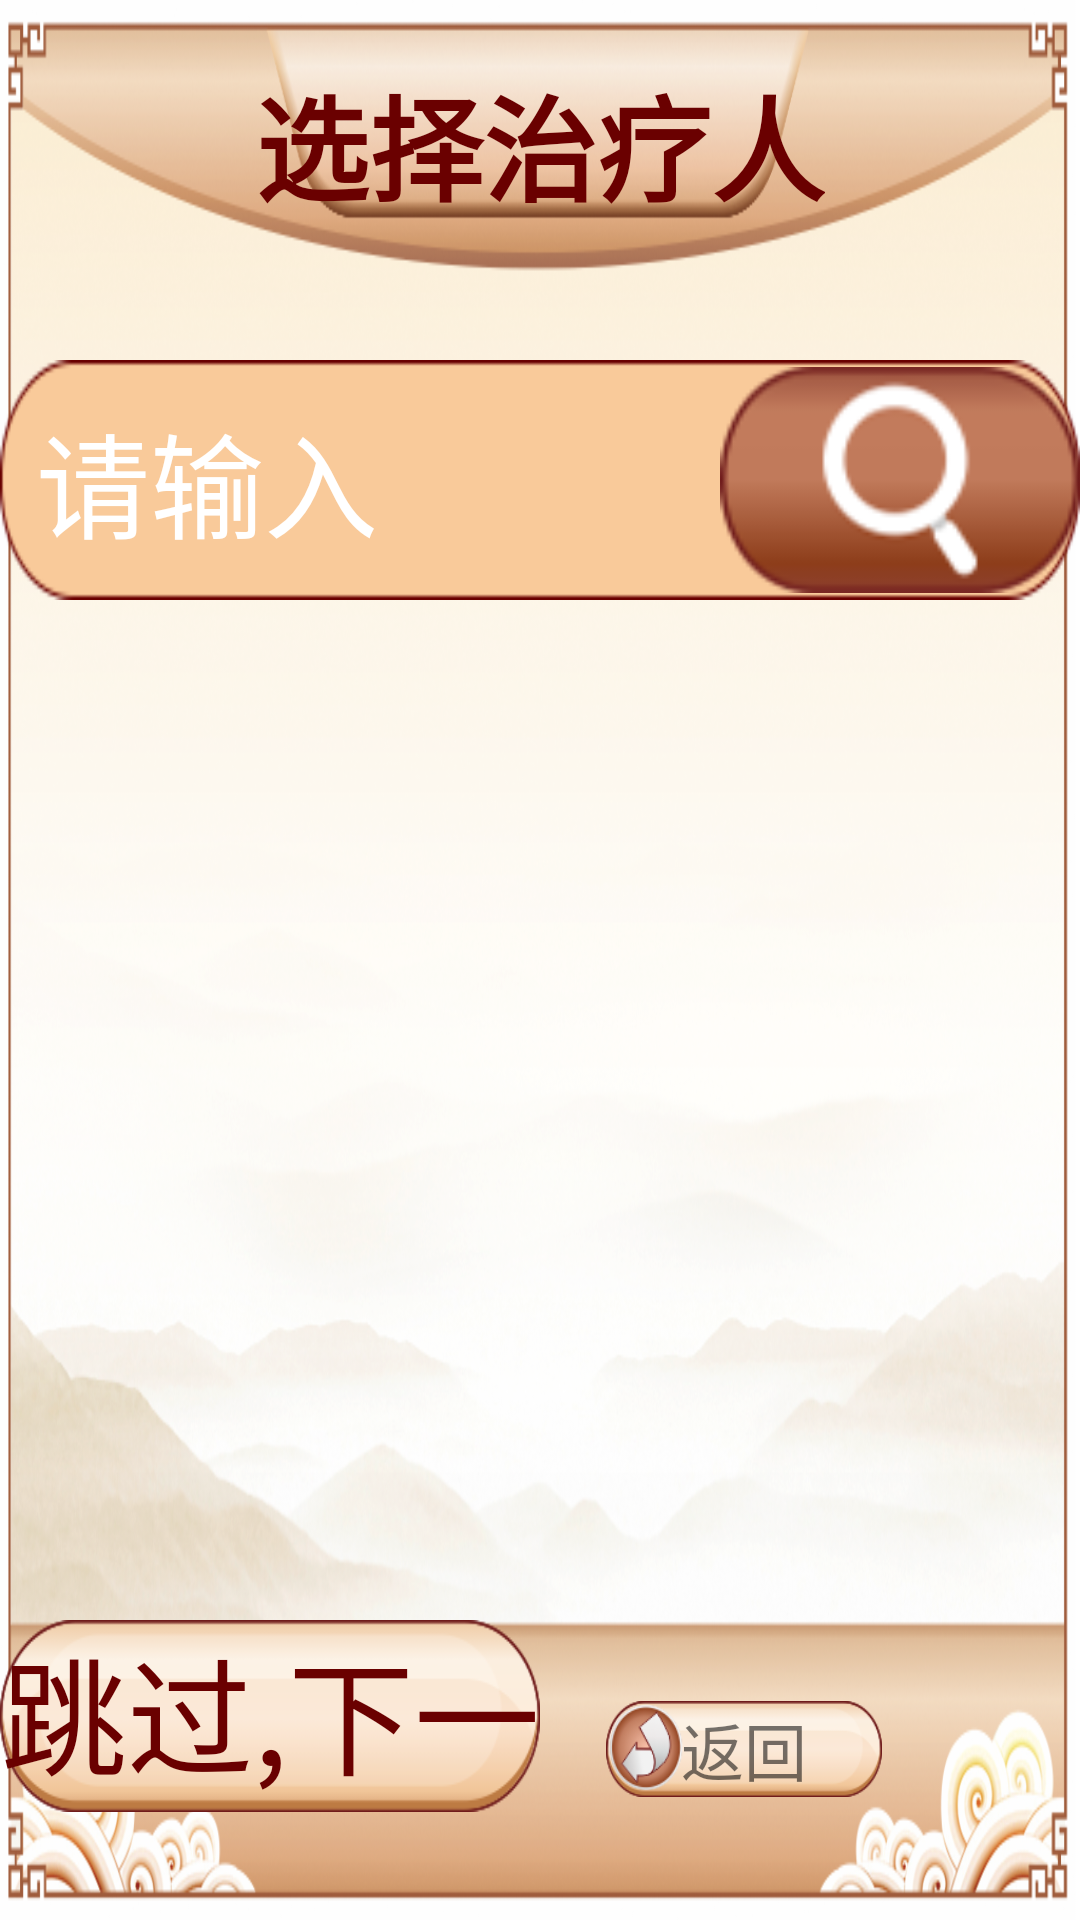

Screen size 1080px x 1920px. Icon name, then its center in pixels as (x=x, y=y):
search: (x=900, y=480)
